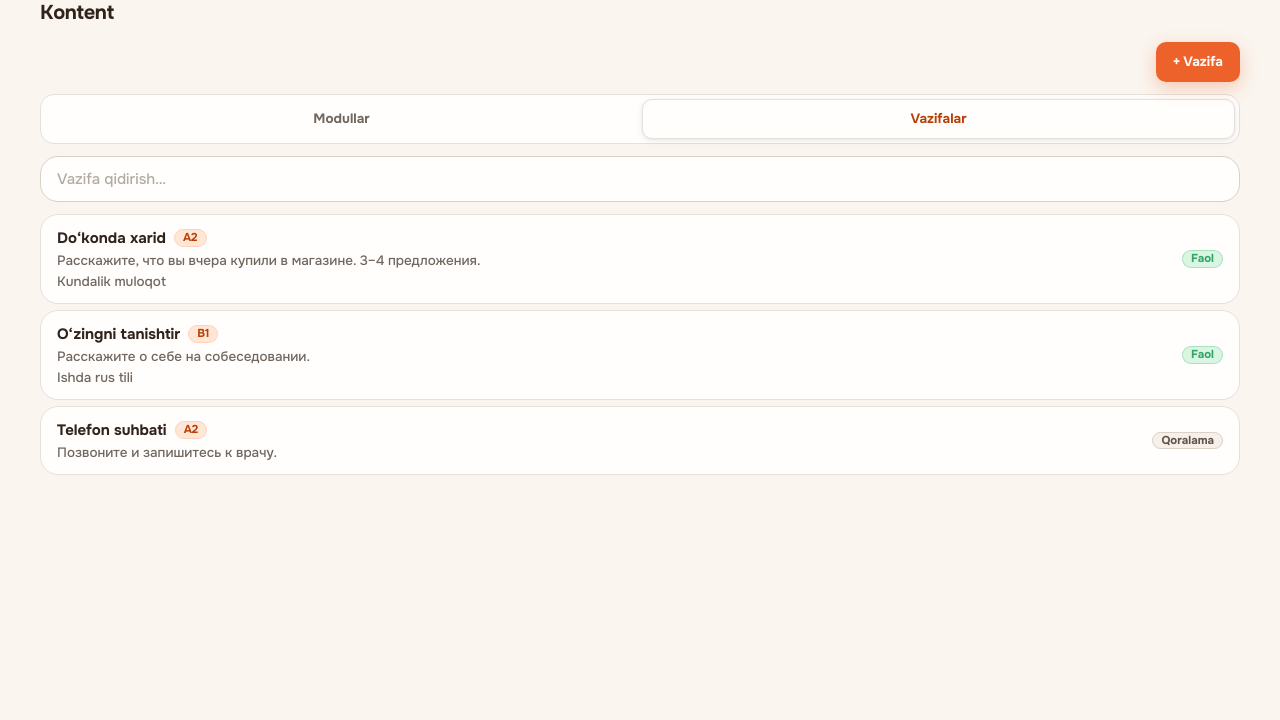
Scenario: a task row on Vazifalar › opens the editor — an unattached task is editable too
Click the button "Telefon suhbati A2 Позвоните и запишитесь к врачу. Qoralama" at (112, 430), box x1=40 y1=406 x2=1240 y2=475
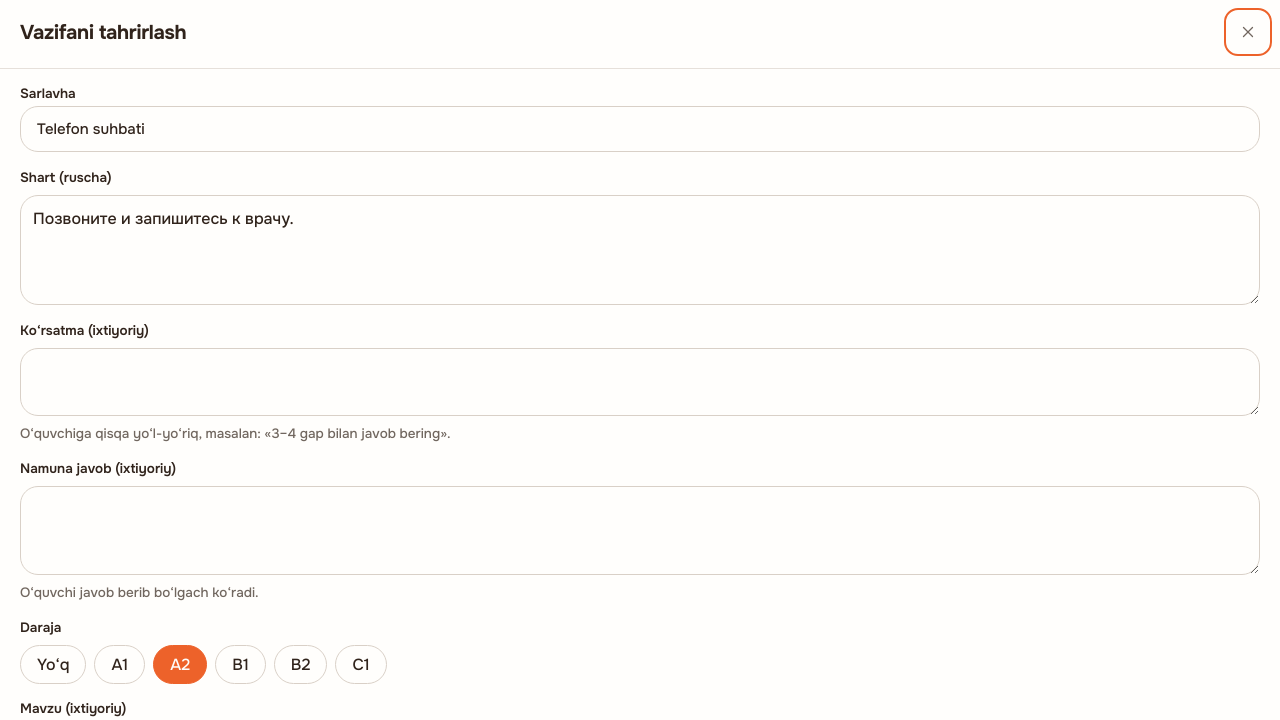
Check: the field labelled "Sarlavha" holds "Telefon suhbati", box x1=21 y1=107 x2=1259 y2=151
